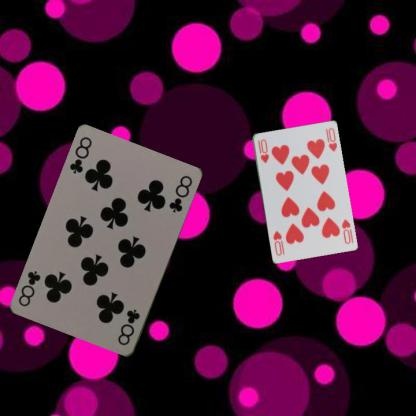10h: (255, 136, 270, 164), (338, 217, 352, 245)
8c: (67, 134, 94, 176), (115, 307, 142, 347)
